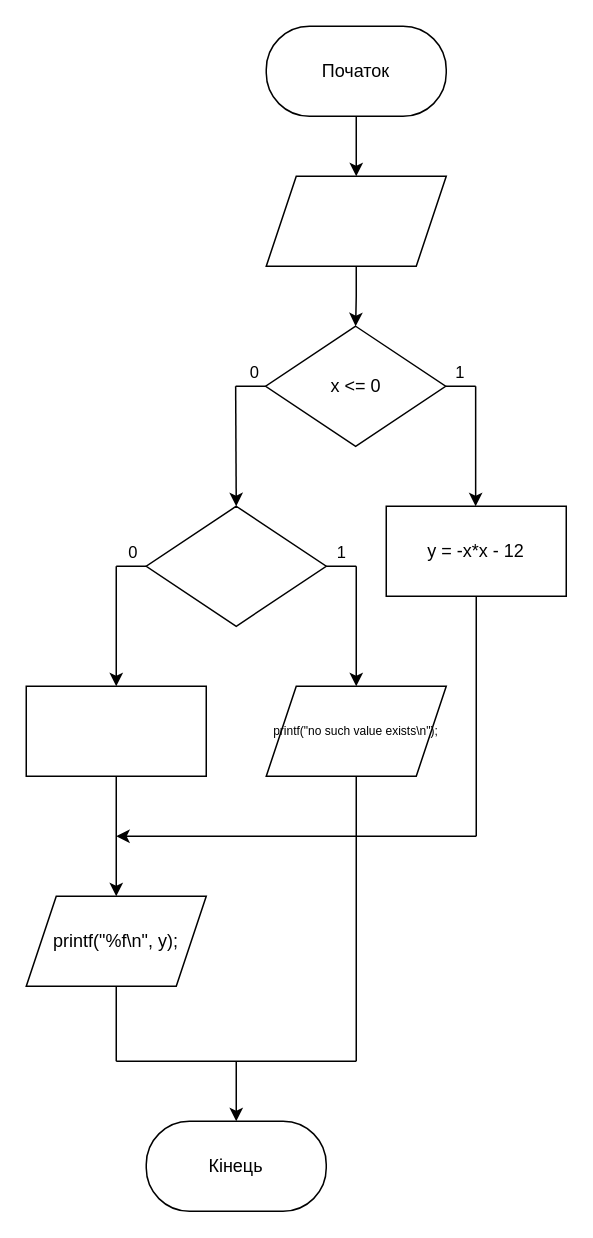
This 593x1238 diagram has some shape labels left out. The shapes that lost their labels are listed below. From the top down, each one's centre as x and y in pixels, then its label:
At (x=355, y=220): "Ввід х".
At (x=235, y=565): "(x <= 2) || (x > 12 && x <= 22) || (x >= 32)".
At (x=115, y=730): "y = -9 * x*x*x + 5 * x*x".
